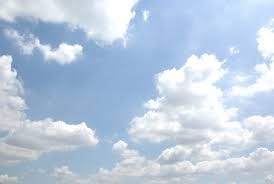sky: (1, 1, 273, 184)
